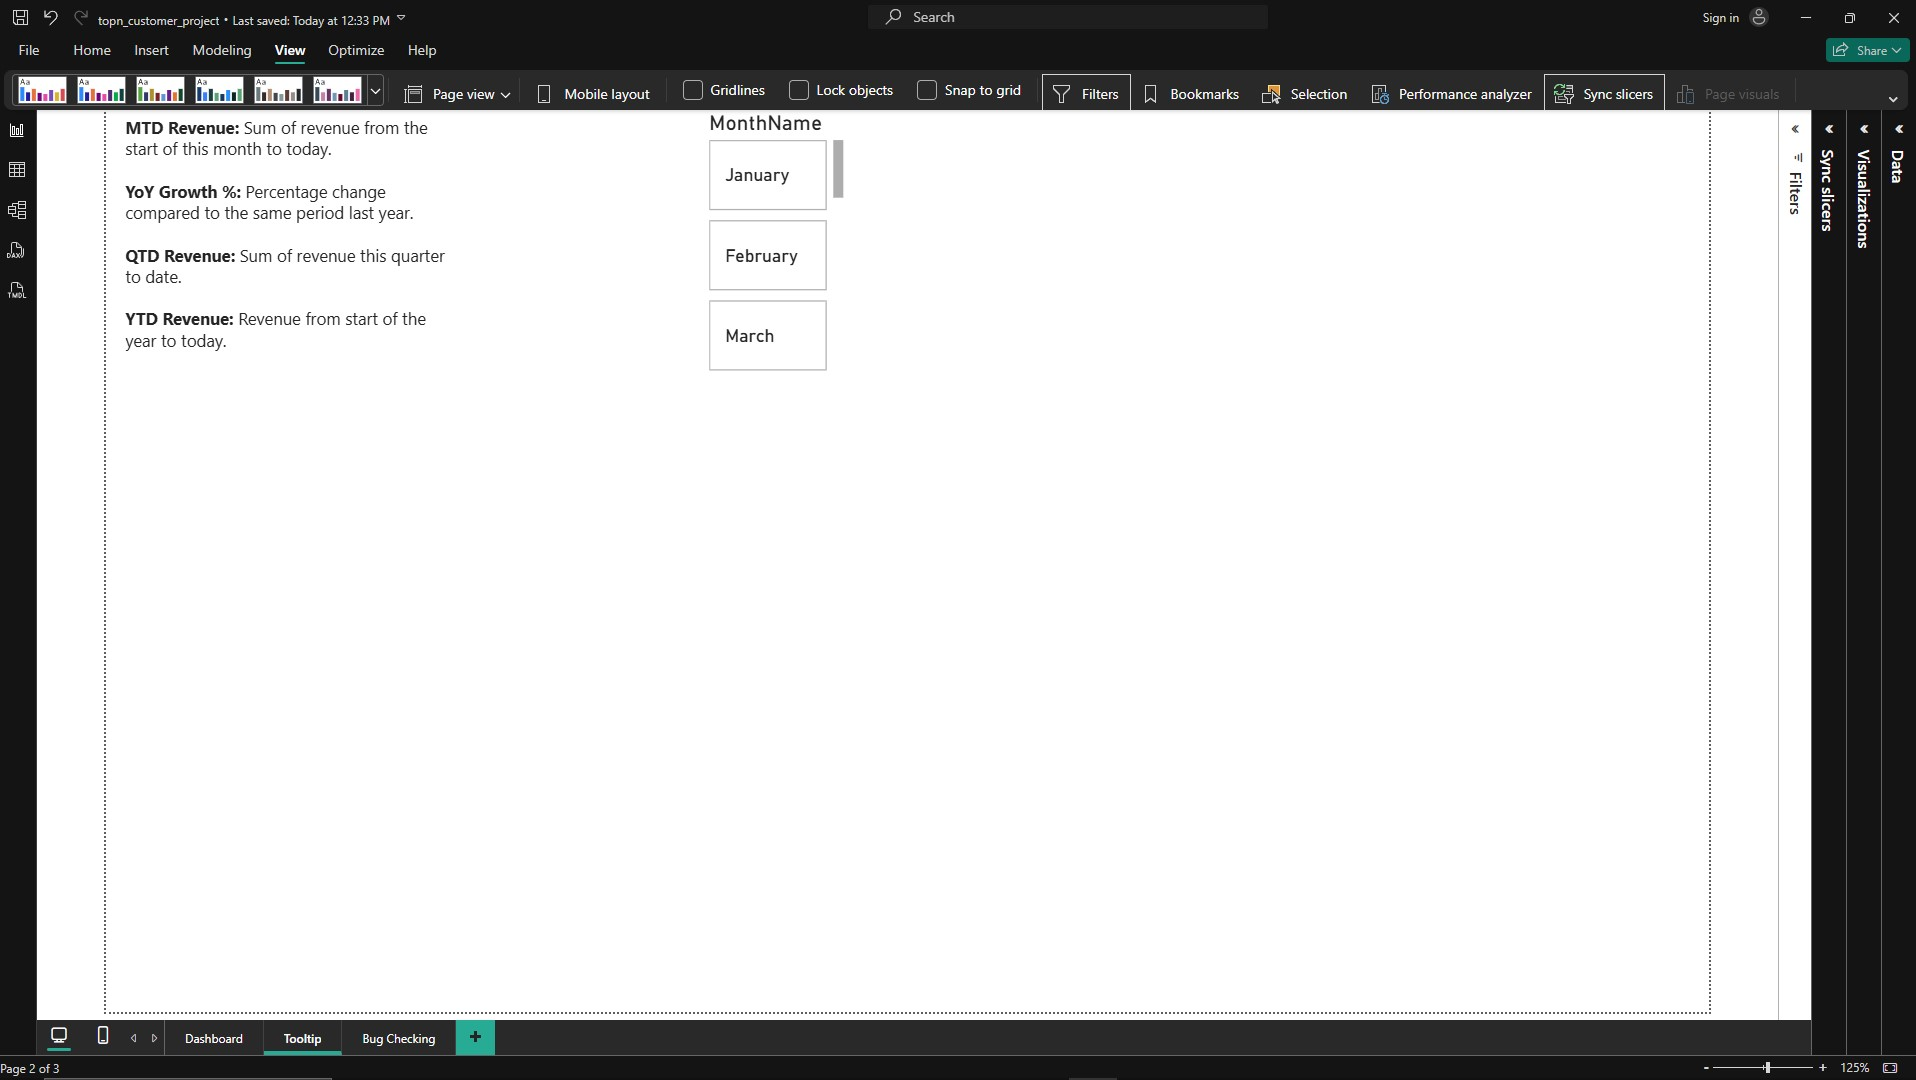

The dashboard page shown, as its layout file describes it:
{"tool":"powerbi","page":{"name":"Tooltip","canvas":[1280,720],"ordinal":1},"visuals":[{"type":"textbox","box":[10,0,275.8,236.8],"z":0},{"type":"advancedSlicerVisual","fields":{"Values":["DateTable.MonthName"]},"box":[476.6,0,117.7,215.9],"z":1}]}

Visuals, with their boxes on the page's 1280x720 design canvas (x1, y1, x2, y2). These are canvas units, not pixel positions in the 1916x1080 screenshot, which may show the page scaled, cropped or inside an application window:
textbox: [10,0,286,237]
advancedSlicerVisual - DateTable.MonthName: [477,0,594,216]
